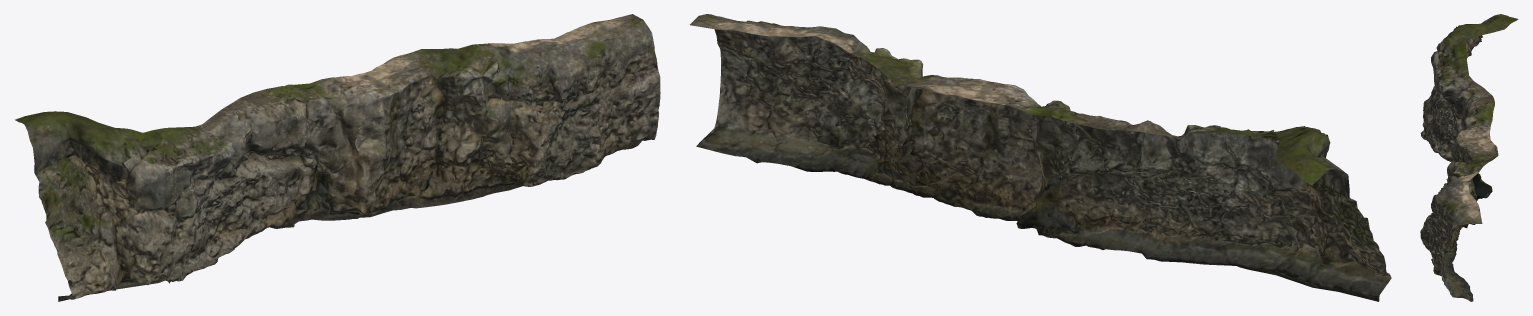
File: coastal_cliff_02.glb
The picture shows the model from 3 angles, left to right: view 1: azimuth 30°, elevation 25°; view 2: azimuth 150°, elevation 25°; view 3: azimuth 270°, elevation 25°; orthographic projection. The views are drawn at different scales.
Parts seen in each view (by area): view 1: coastal_cliff_02_LOD0; view 2: coastal_cliff_02_LOD0; view 3: coastal_cliff_02_LOD0.
Boxes of the visible parts, <box> form: coastal_cliff_02_LOD0: <box>15,14,660,301</box>; coastal_cliff_02_LOD0: <box>690,14,1391,301</box>; coastal_cliff_02_LOD0: <box>1420,14,1518,301</box>.
Bounding box in the file's own units: 40.8 × 9.98 × 8.62.
Materials: 1 (1 with a texture image).
